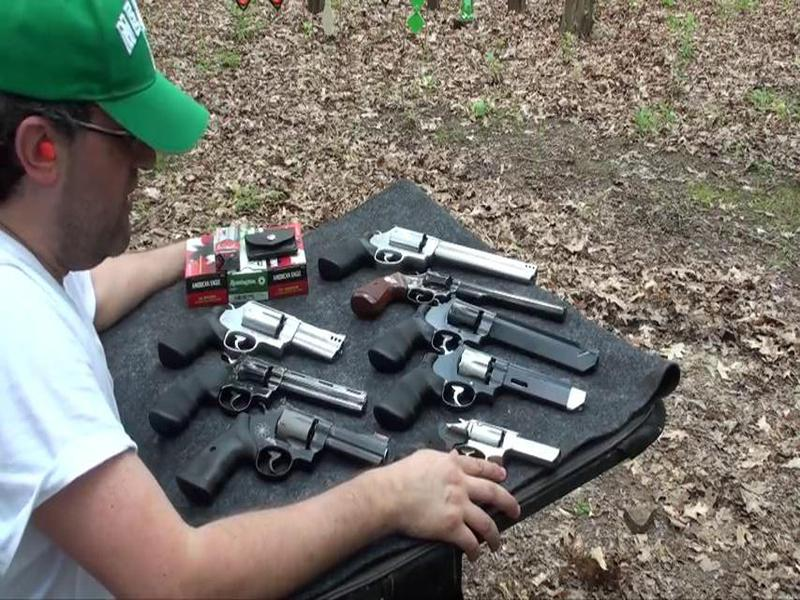Revolver: (147, 294, 355, 376)
